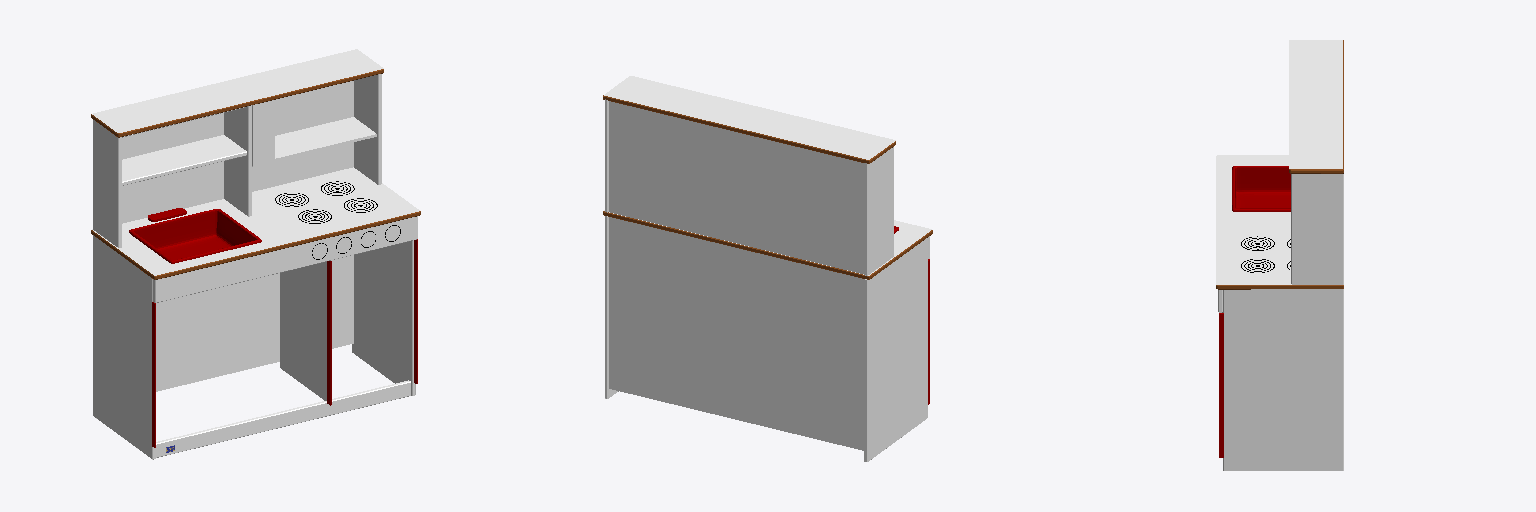
The picture shows the model from 3 angles: view 1: azimuth 30°, elevation 25°; view 2: azimuth 150°, elevation 25°; view 3: azimuth 270°, elevation 25°; orthographic projection.
Parts seen in each view (by area): view 1: material_4_0, material_3_0, material_1_0, material_2_0, material_0_0; view 2: material_4_0, material_1_0; view 3: material_4_0, material_3_0, material_1_0.
Part boxes in pixels (left/top/right/bottom): material_4_0: left=92, top=49, right=419, bottom=459; material_3_0: left=129, top=208, right=417, bottom=447; material_1_0: left=91, top=69, right=420, bottom=279; material_2_0: left=252, top=100, right=274, bottom=167; material_0_0: left=275, top=181, right=400, bottom=259; material_4_0: left=604, top=76, right=931, bottom=461; material_1_0: left=603, top=95, right=932, bottom=279; material_4_0: left=1216, top=40, right=1343, bottom=470; material_3_0: left=1219, top=166, right=1290, bottom=457; material_1_0: left=1216, top=40, right=1343, bottom=289.
Size of the model in its own units: 1.3 by 1.41 by 0.5419.
Materials: 6 (1 with a texture image).